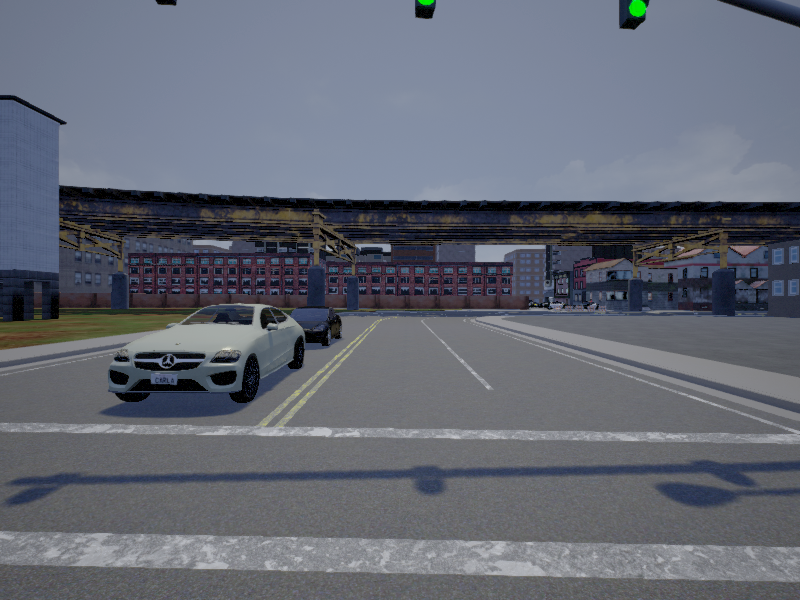Benign: (104, 303, 305, 401), (292, 307, 341, 348)
